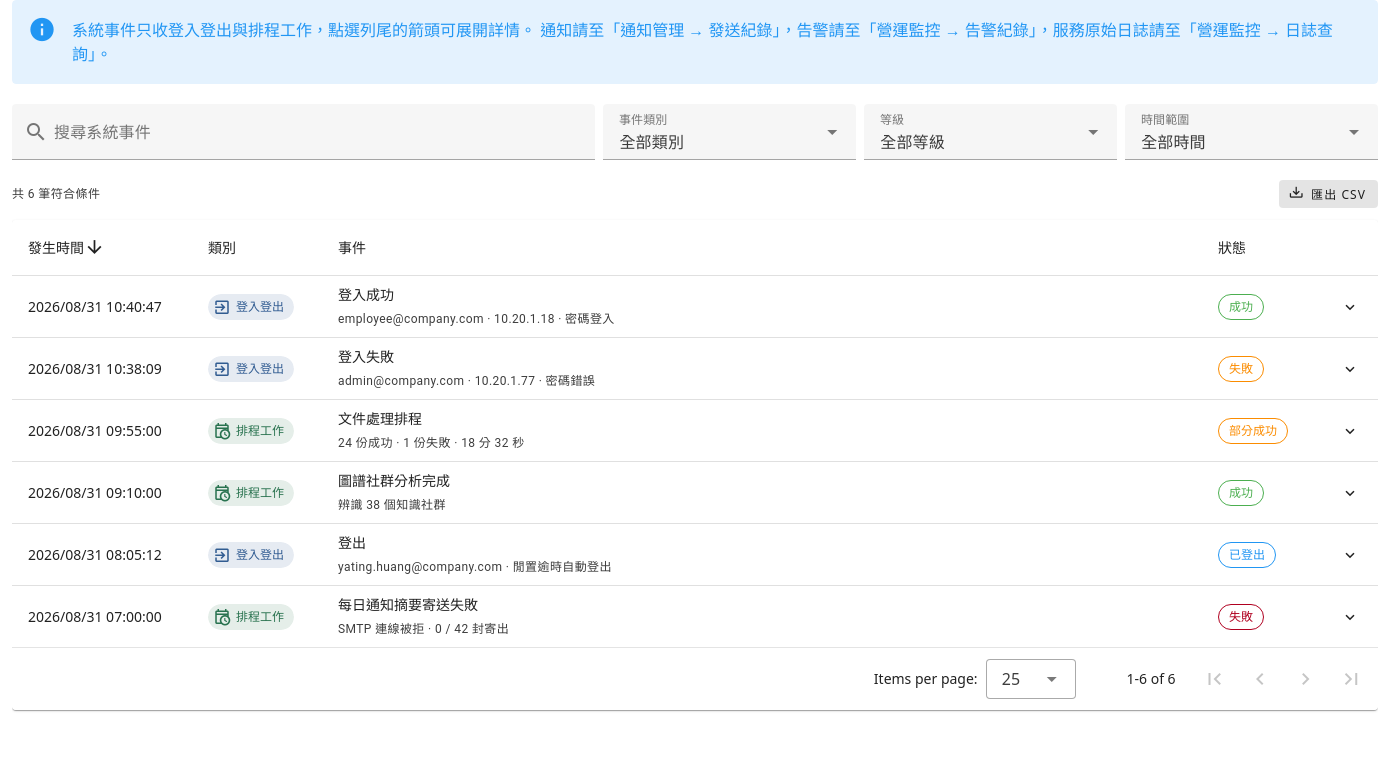
Scenario: SystemEventsPanel › should filter events and offer a reset when nothing matches
In the field labelled "搜尋系統事件": (316,132) [48,104,584,160], type "完全不會出現的關鍵字"
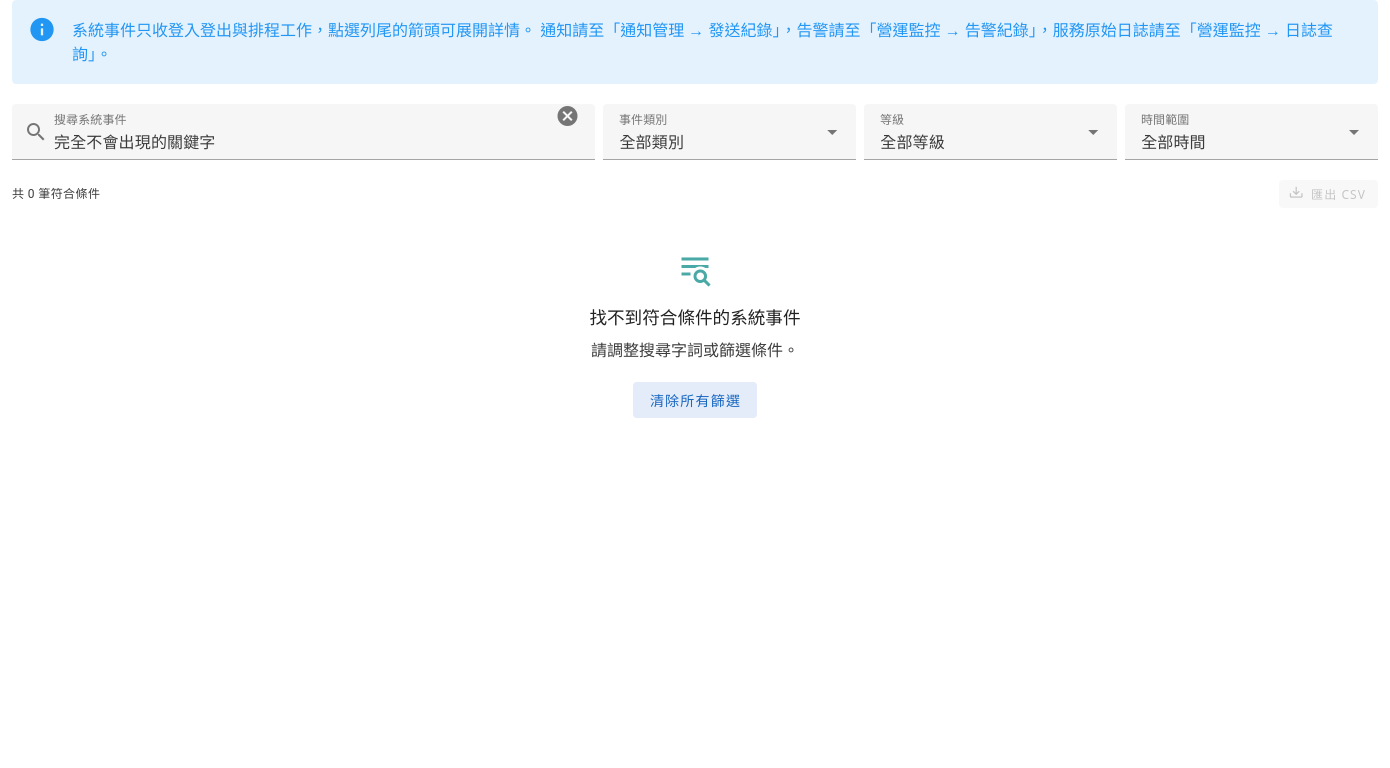
Now the text "共 0 筆符合條件" is shown, box [12,184,100,204]
Now the text "找不到符合條件的系統事件" is shown, box [589,305,800,329]
Click the button "清除所有篩選": (695,400) [633,382,757,418]
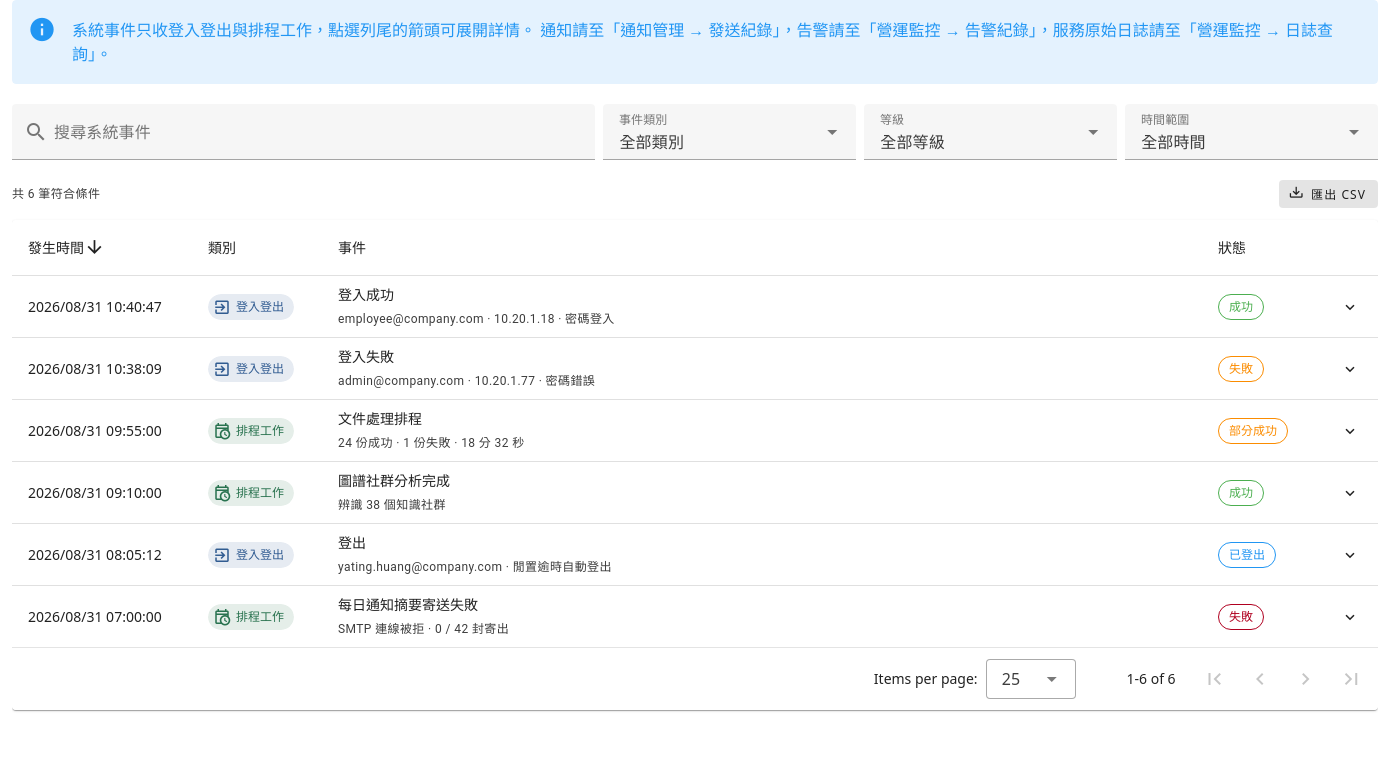
Now the element with test id "system-event-table" is shown
